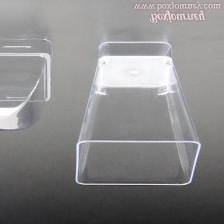glass: (71, 34, 206, 195)
